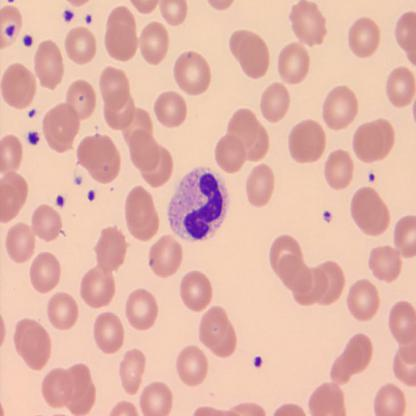Band Neutrophil: (166, 165, 231, 247)
